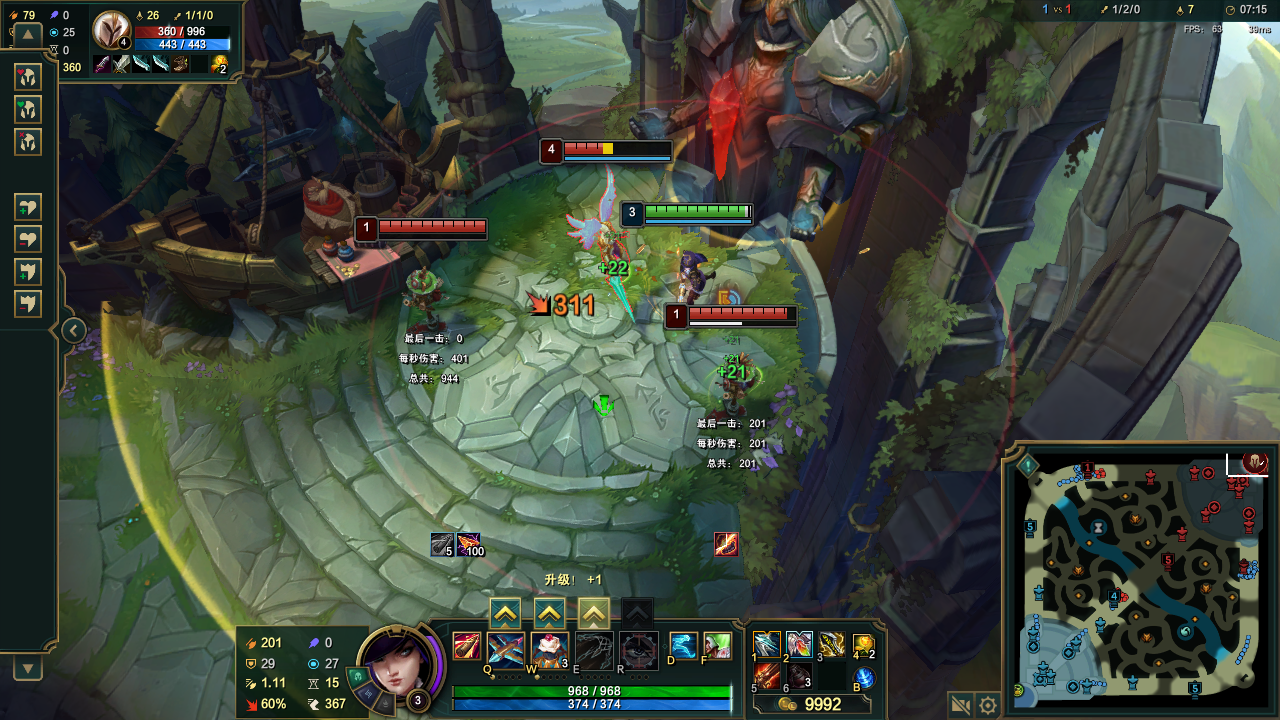DFYX: (378, 213, 487, 232), (563, 139, 671, 153), (690, 308, 801, 320)
